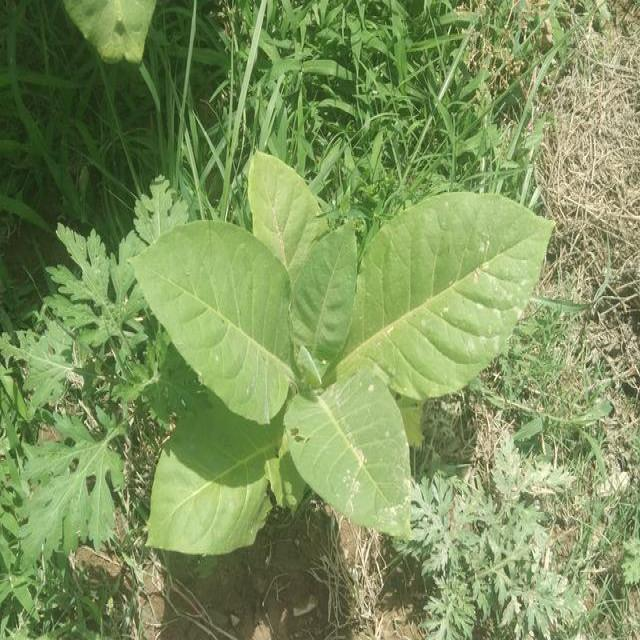crop: (121, 154, 558, 557)
